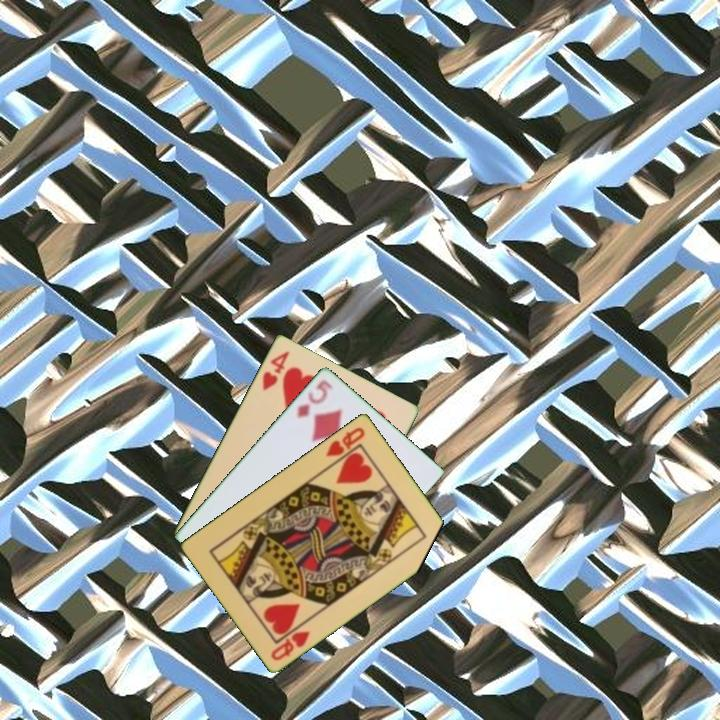4h: (258, 347, 292, 394)
5d: (293, 376, 336, 421)
Qh: (322, 423, 368, 467), (267, 627, 313, 663)
